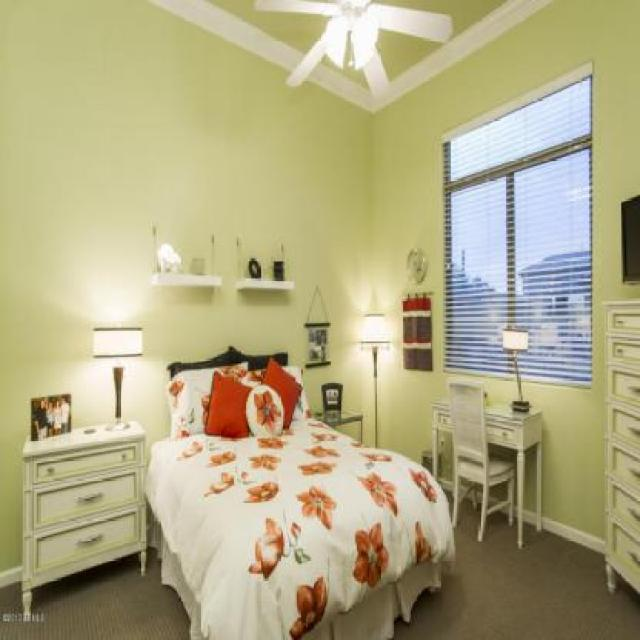Floor: (390, 498, 640, 639), (0, 547, 191, 639), (442, 490, 455, 520)
